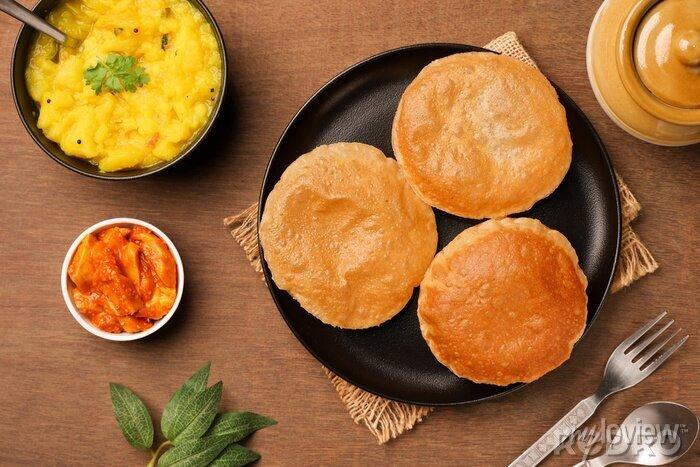puri: (278, 51, 580, 384)
